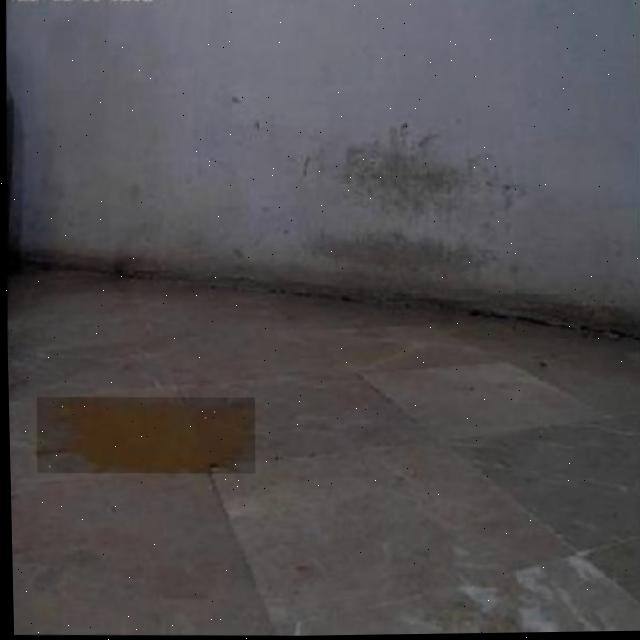spillage: (35, 397, 251, 474)
